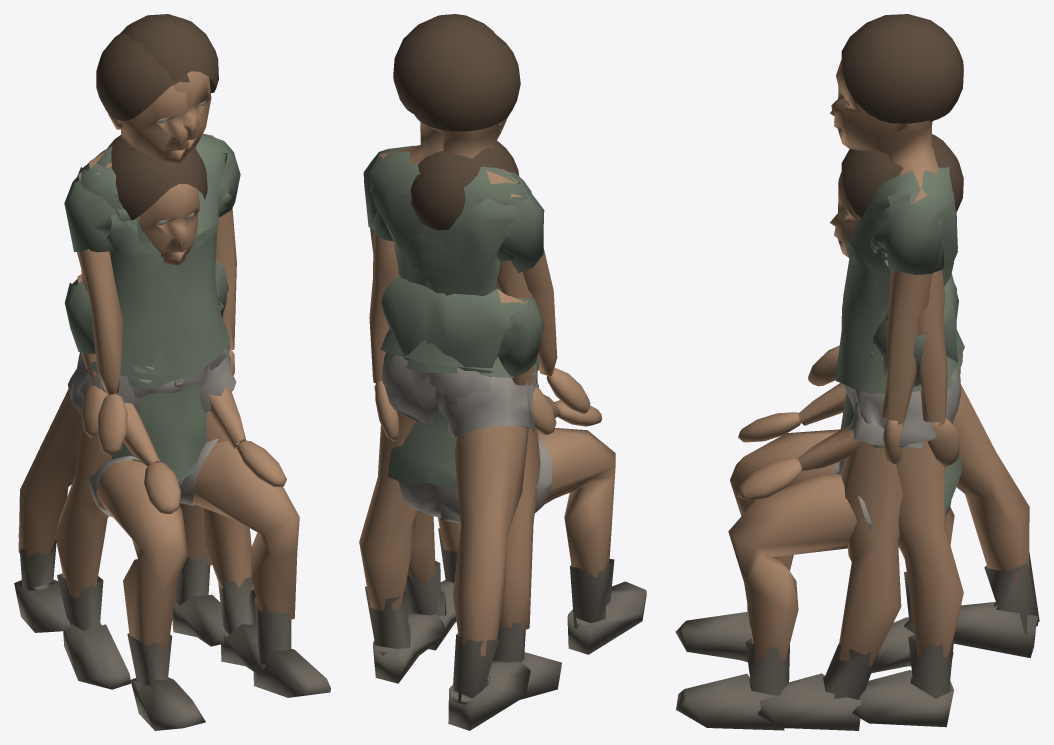
File: crowd-07-far.glb
The picture shows the model from 3 angles, left to right: view 1: azimuth 30°, elevation 25°; view 2: azimuth 150°, elevation 25°; view 3: azimuth 270°, elevation 25°; orthographic projection. The views are drawn at different scales.
Parts seen in each view (by area): view 1: seated, walking, standing; view 2: walking, standing, seated; view 3: standing, seated, walking.
Part boxes in pixels (x1=…): seated: x1=64, y1=135, x2=330, y2=730; walking: x1=14, y1=33, x2=265, y2=675; standing: x1=55, y1=14, x2=240, y2=689; walking: x1=369, y1=34, x2=590, y2=730; standing: x1=359, y1=14, x2=561, y2=699; seated: x1=381, y1=141, x2=646, y2=654; standing: x1=831, y1=14, x2=964, y2=727; seated: x1=675, y1=134, x2=963, y2=730; walking: x1=757, y1=20, x2=1039, y2=730.
Size of the model in its own units: 0.2954 by 1 by 0.4851.
